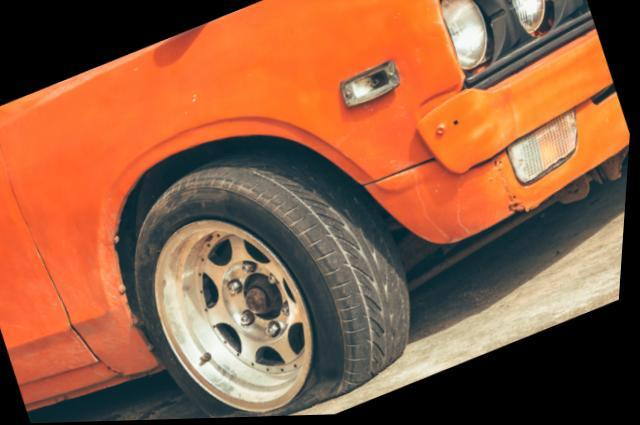tire flat: (136, 150, 416, 419)
